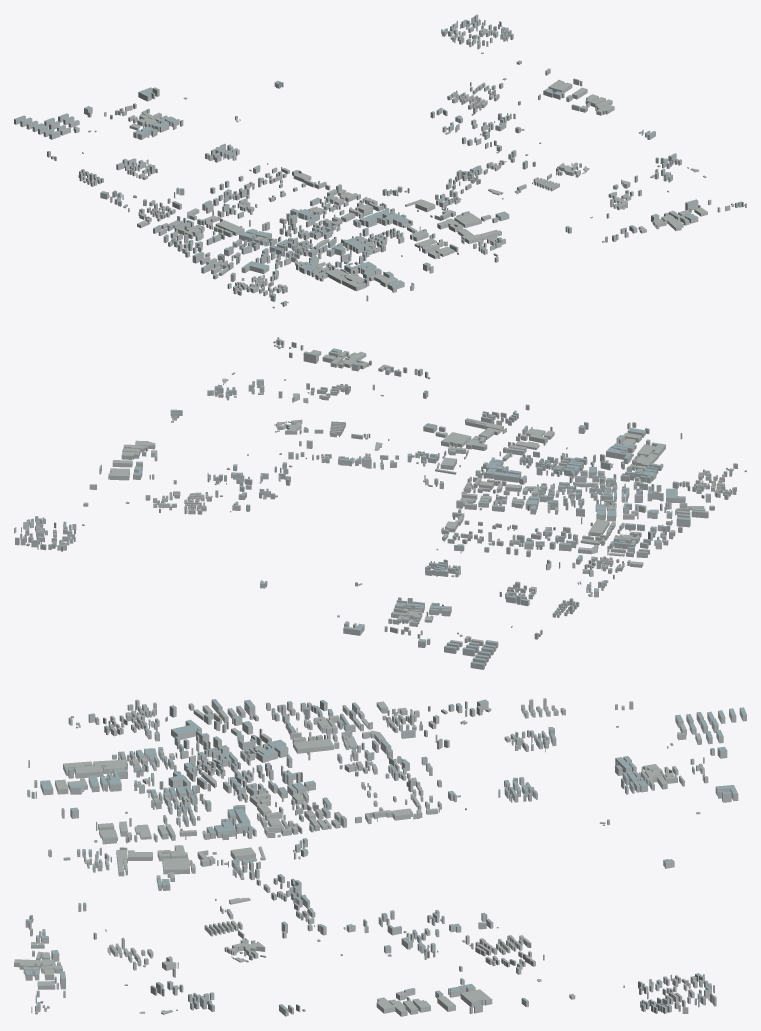
Rendered from far.glb.
3 views of the same model, one above another, from view 1: azimuth 30°, elevation 25°; view 2: azimuth 150°, elevation 25°; view 3: azimuth 270°, elevation 25° (orthographic). The views are drawn at different scales.
Bounding box in the file's own units: 2132 × 38.22 × 2119.
